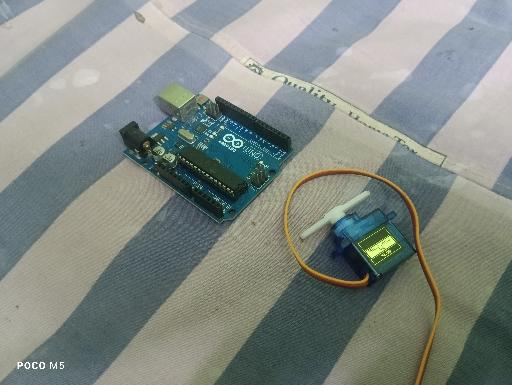Arduino: (119, 83, 294, 225)
Motor: (299, 189, 417, 288)
